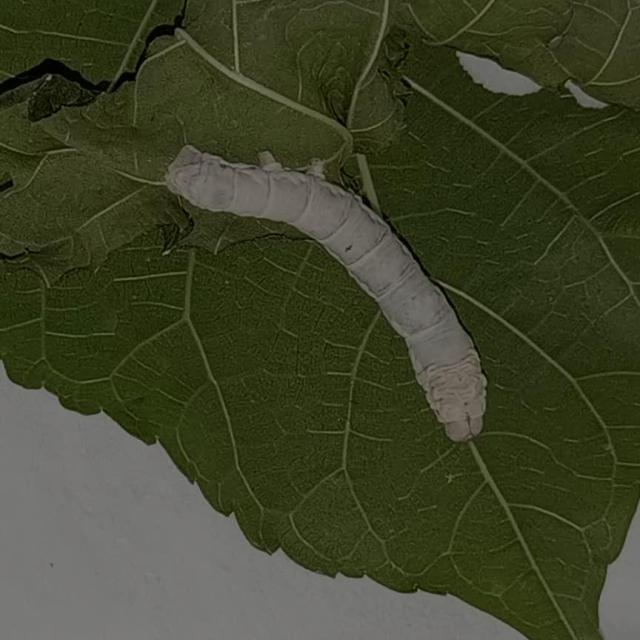Healthy: (148, 123, 538, 455)
